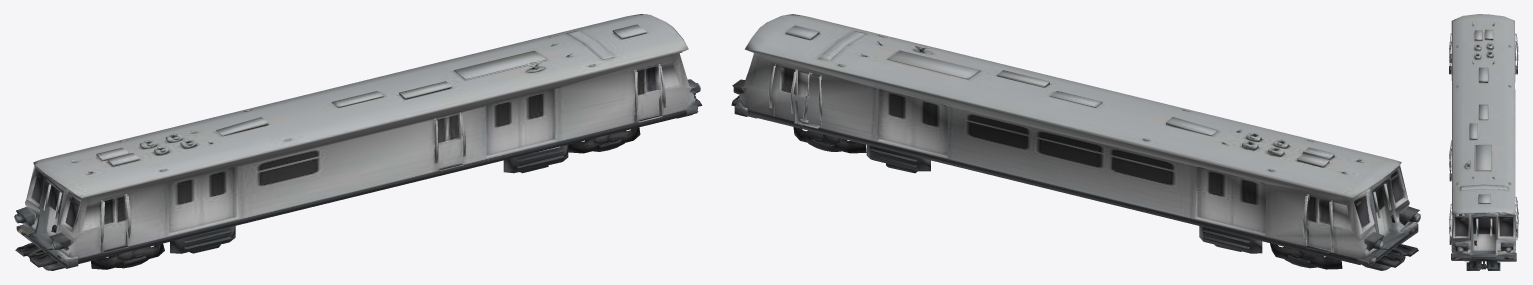
The model's file is subway-train.glb.
The picture shows the model from 3 angles, left to right: view 1: azimuth 30°, elevation 25°; view 2: azimuth 150°, elevation 25°; view 3: azimuth 270°, elevation 25°; orthographic projection. The views are drawn at different scales.
Parts seen in each view (by area): view 1: tripo_node_cc11543b-4c20-43b5-81ab-6e5f970b2a47; view 2: tripo_node_cc11543b-4c20-43b5-81ab-6e5f970b2a47; view 3: tripo_node_cc11543b-4c20-43b5-81ab-6e5f970b2a47.
Boxes of the visible parts, x1,y1,x2,y2 form: tripo_node_cc11543b-4c20-43b5-81ab-6e5f970b2a47: (14, 14, 702, 270); tripo_node_cc11543b-4c20-43b5-81ab-6e5f970b2a47: (731, 14, 1420, 270); tripo_node_cc11543b-4c20-43b5-81ab-6e5f970b2a47: (1449, 14, 1518, 270).
Bounding box in the file's own units: 18 × 2.55 × 2.5.
1 material, 1 textured.
